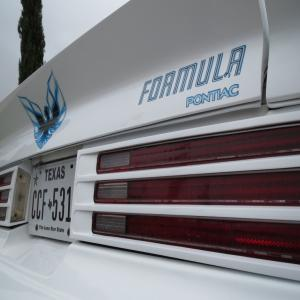Vehicle-registration-plate: (29, 157, 78, 243)
